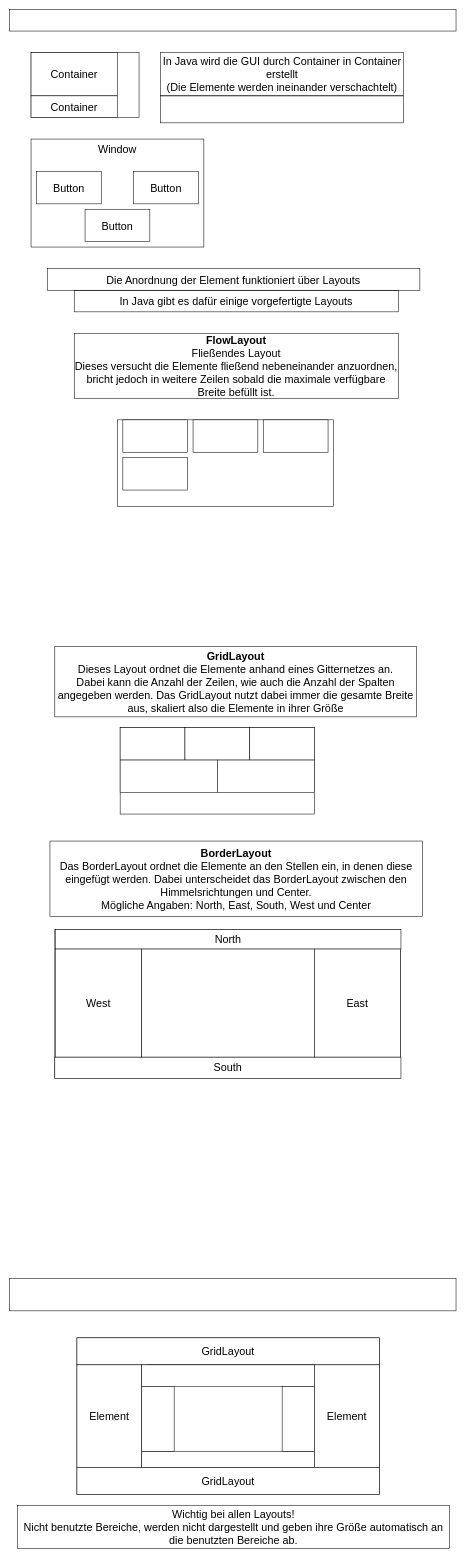
The diagram is 465 pixels wide and 1558 high, and some of its shapes have lost their labels. Each missing label, with the centre of its shape:
Center: the point at 228,1003
GUI in Java: the point at 232,20
Jeder Container in der GUI ist auch ein Component: the point at 282,109
Verschachtelung / Kombination von Layouts: the point at 232,1294
